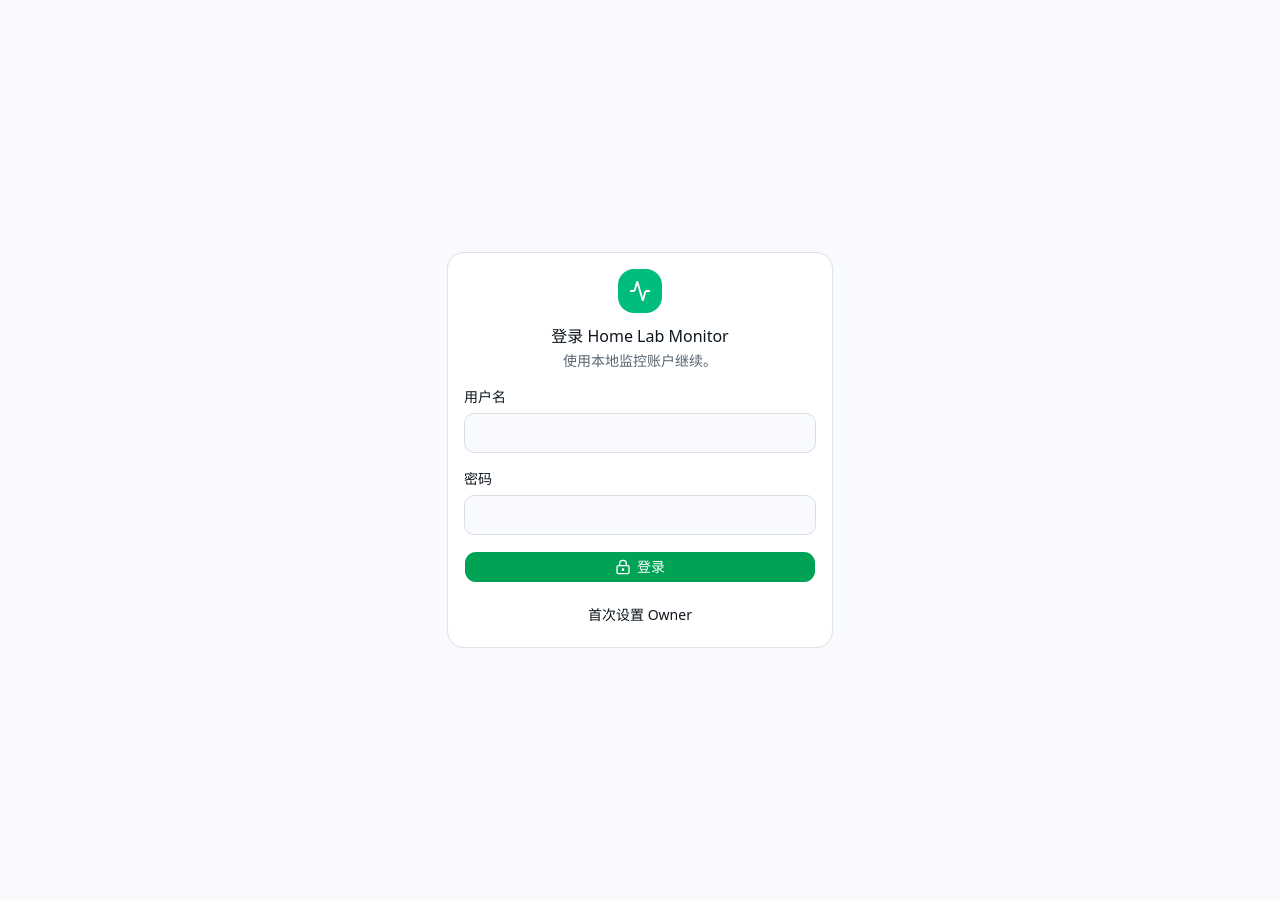
Test: App session gate › does not query monitoring data or signal presence until login succeeds
expect the heading "登录 Home Lab Monitor" is shown: met, box [551,325,729,347]
Type "owner" into the field labelled "用户名" at point(640, 433), box [464,413,816,453]
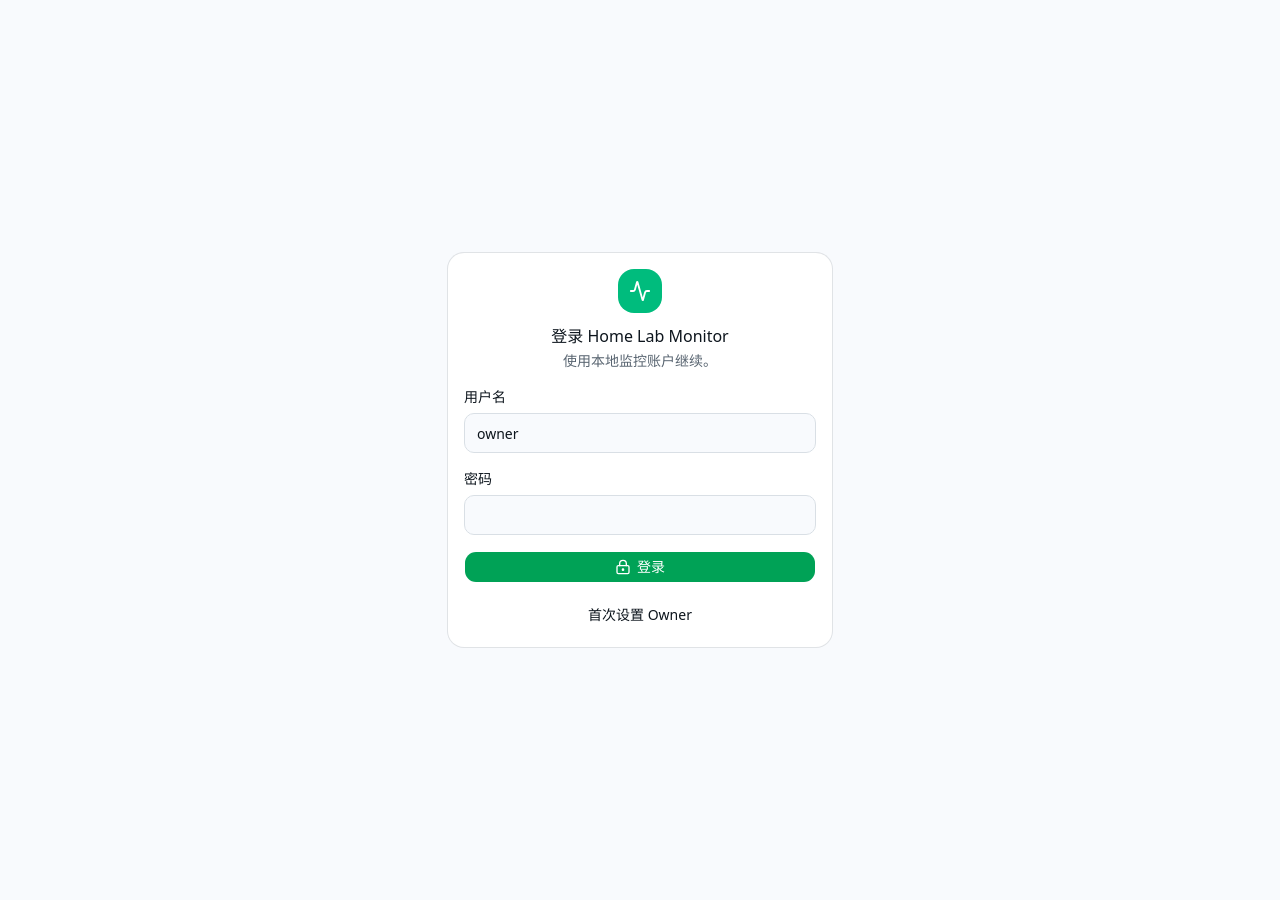
Type "secret" into the password field labelled "密码" at point(640, 515), box [464,495,816,535]
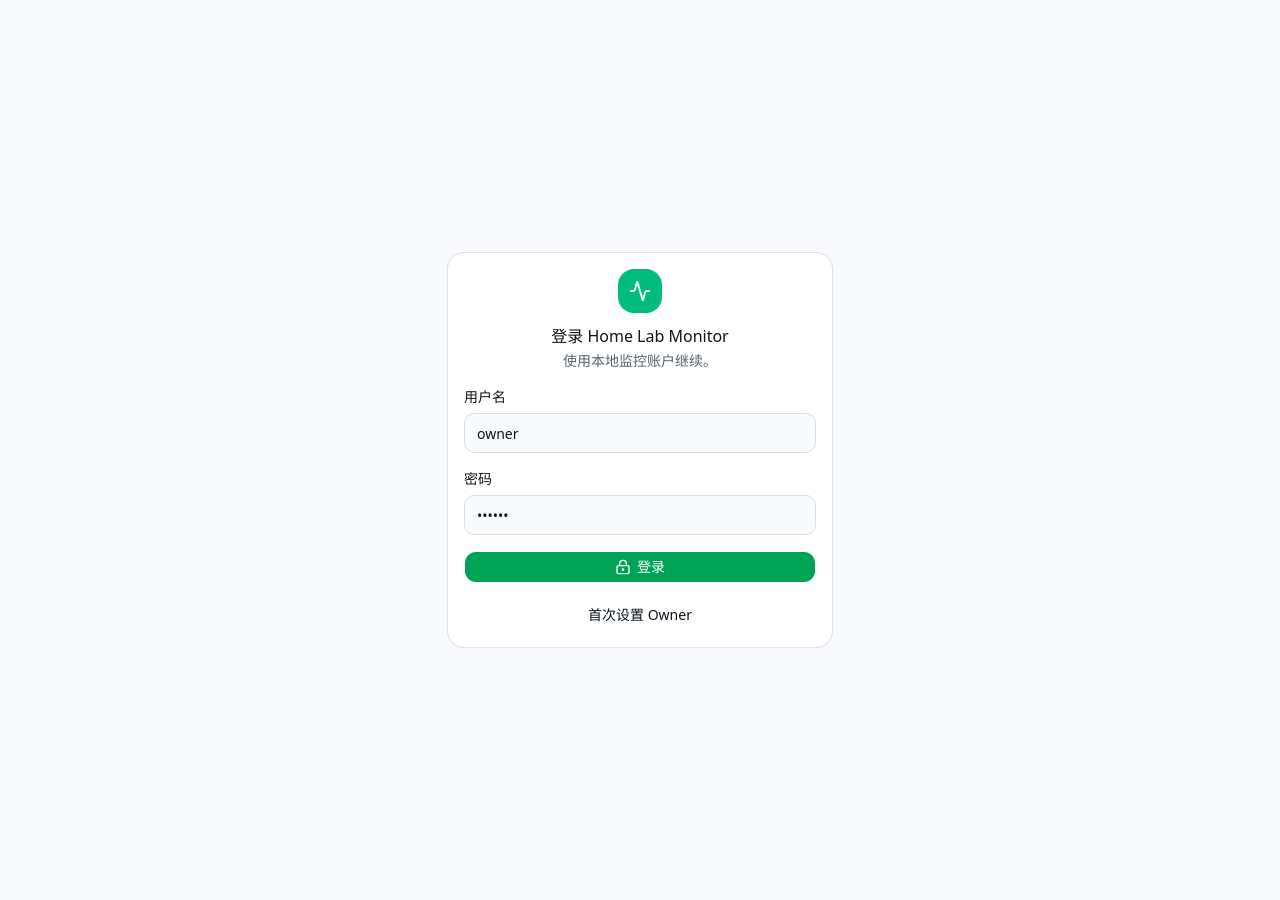
Click the button "登录" at point(640, 567), box [464,551,816,583]
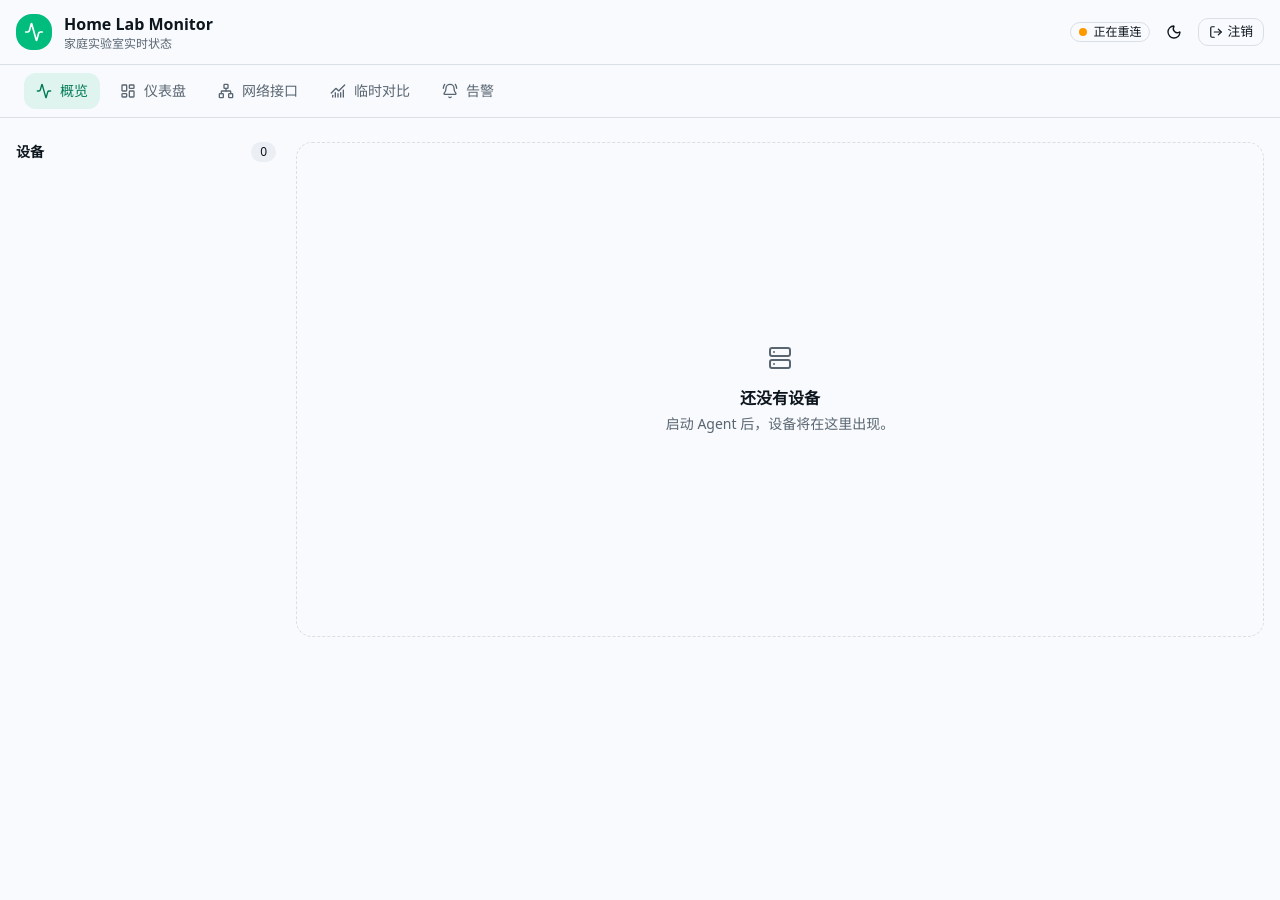
expect the heading "还没有设备" is shown: met, box [740,386,820,408]
Click the button "注销" at point(1231, 32), box [1198,18,1264,46]
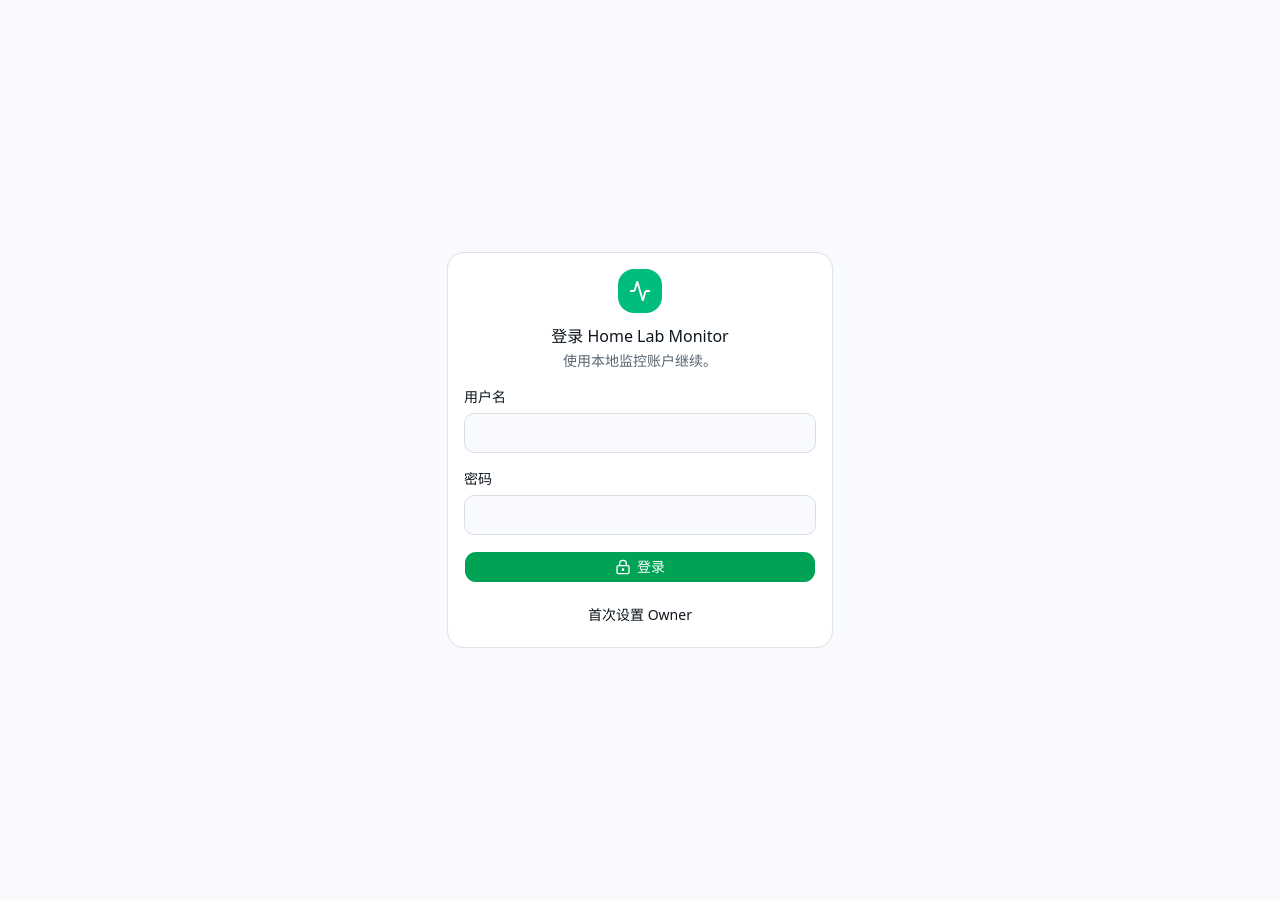
expect the heading "登录 Home Lab Monitor" is shown: met, box [551,325,729,347]
